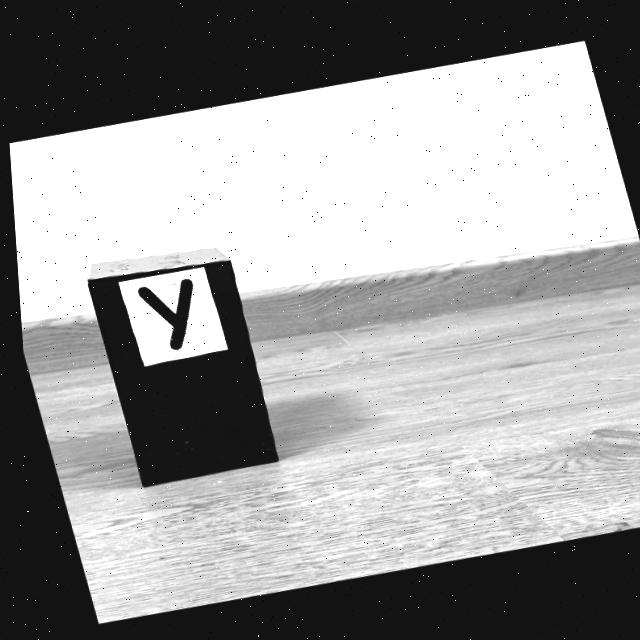Y: (134, 277, 190, 348)
